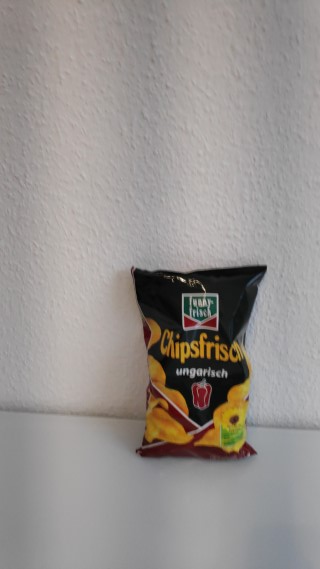chipsfrisch: (128, 263, 271, 461)
